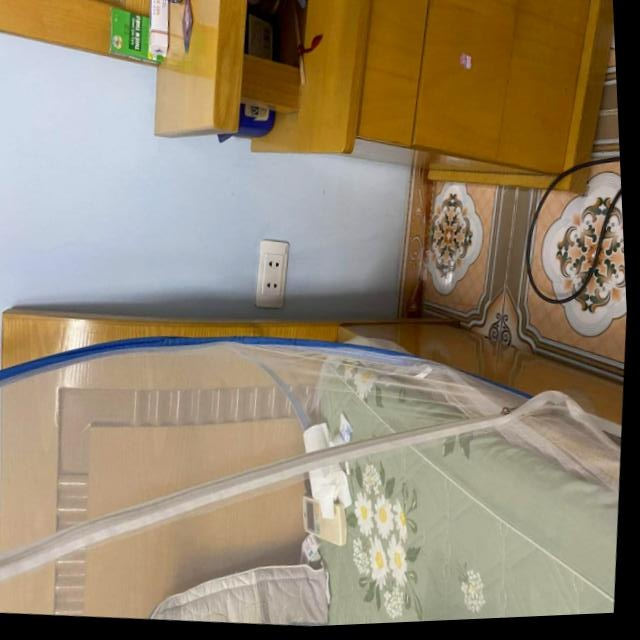outlet: (251, 238, 291, 311)
